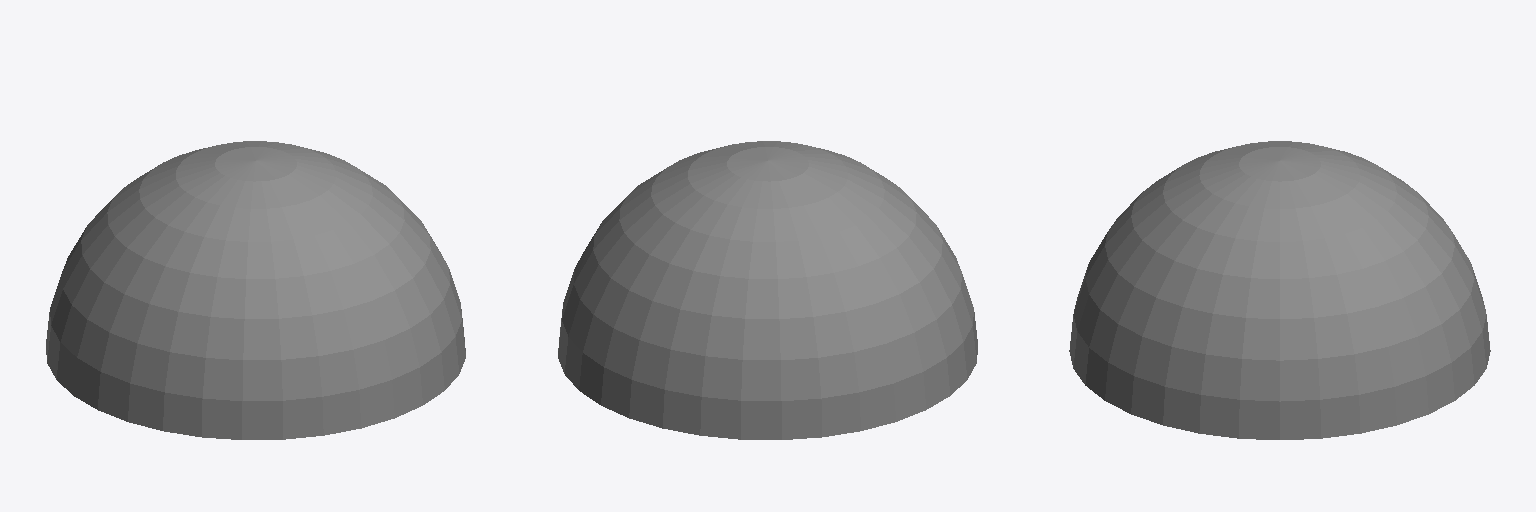
File: Sky.obj
The picture shows the model from 3 angles: view 1: azimuth 30°, elevation 25°; view 2: azimuth 150°, elevation 25°; view 3: azimuth 270°, elevation 25°; orthographic projection.
Visible parts, largest first — view 1: Sphere001; view 2: Sphere001; view 3: Sphere001.
Boxes of the visible parts, x1=… form: Sphere001: x1=46, y1=141, x2=465, y2=439; Sphere001: x1=558, y1=141, x2=977, y2=439; Sphere001: x1=1069, y1=141, x2=1490, y2=439.
Size of the model in its own units: 28.28 by 14.14 by 28.28.